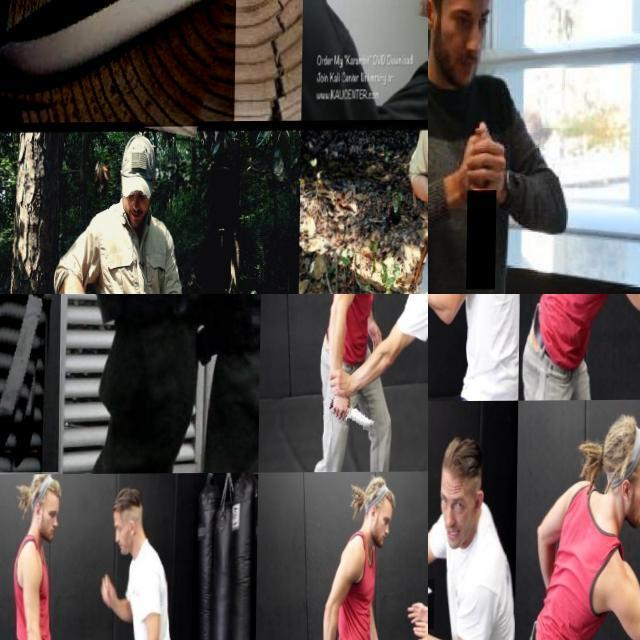-: (0, 0, 238, 134), (0, 294, 62, 472), (468, 191, 498, 290), (324, 390, 382, 430), (428, 579, 454, 630), (428, 294, 456, 316)
